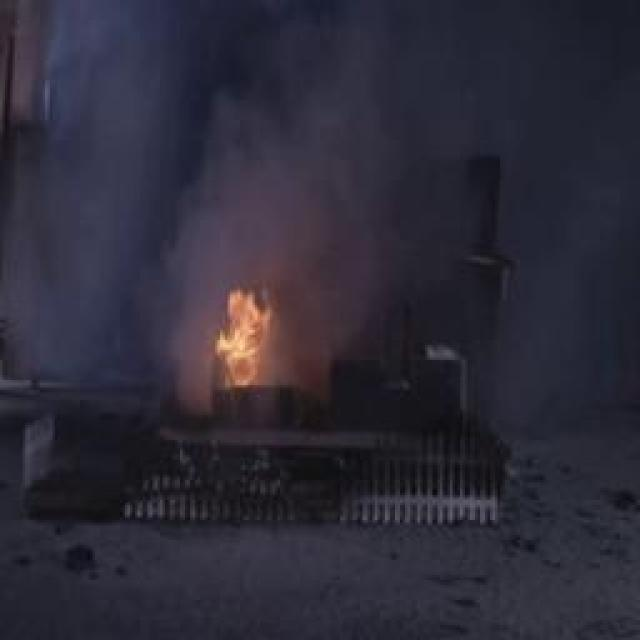fire: (178, 273, 298, 405)
smoke: (80, 7, 558, 265)
